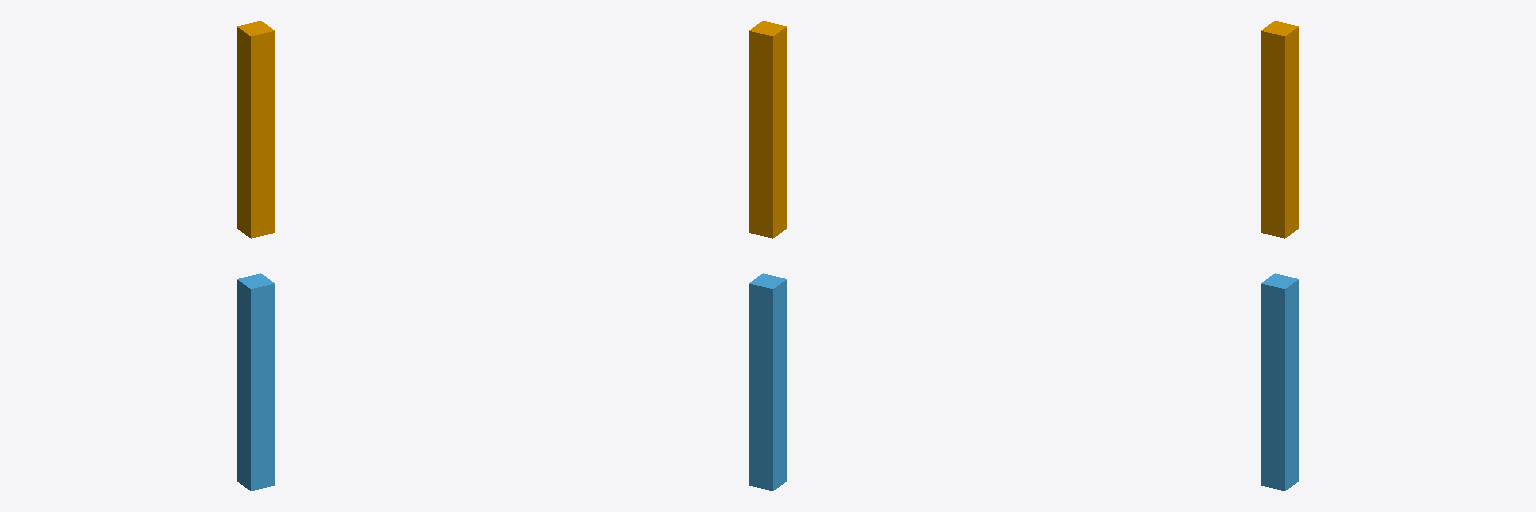
The robot description file, URDF, robot "0000":
<?xml version="0.0"?> 
<robot name="0000"> 
  <link name="None"> 
    <visual> 
      <geometry> 
        <box size="0.1 0.1 0.8"/>
      </geometry> 
      <origin rpy="0.0 0.0 0.0" xyz="0.0 0.0 -0.5"/>
    </visual> 
    <inertial> 
      <mass value="1.0"/> 
      <origin rpy="0.0 0.0 0.0" xyz="0.0 0.0 -1.0"/>
      <inertia ixx="0000.0" iyy="0000.0" izz="0000.0" iyz="0.0" ixz="0.0" ixy="0.0"/>
    </inertial> 
  </link> 

  <link name="1"> 
    <visual> 
      <geometry> 
        <box size="0.1 0.1 0.8"/>
      </geometry> 
      <origin rpy="0.0 0.0 0.0" xyz="0.0 0.0 -0.5"/>
    </visual> 
    <inertial> 
      <mass value="1.0"/> 
      <origin rpy="0.0 0.0 0.0" xyz="0.0 0.0 -1.0"/> 
      <inertia ixx="0000.0" iyy="0000.0" izz="0000.0" iyz="0.0" ixz="0.0" ixy="0.0"/>
    </inertial> 
  </link> 


  <joint name="1_None" type="continuous"> 
    <parent link="None"/> 
    <child link="1"/> 
    <axis xyz="0.0 1.0 0.0"/> 
    <dynamics damping="0.0" friction="0.0"/> 
    <origin rpy="0.0 0.0 0.0" xyz="0.0 0.0 -1.0"/> 
  </joint> 

</robot> 

--- What the picture shows (computed from the rendered views, not written in the file) ---
3 views of the same robot in one strip: view 1: azimuth 30°, elevation 25°; view 2: azimuth 150°, elevation 25°; view 3: azimuth 330°, elevation 25° (orthographic).
Robot: 0000 — 2 links, 1 joints (1 continuous); root link None; default pose: every joint at zero.
Visible links, largest first — view 1: None, 1; view 2: None, 1; view 3: None, 1.
Boxes of the visible links, box(x1,y1,x2,y2) form: None: box(237, 21, 274, 238); 1: box(237, 273, 274, 490); None: box(749, 21, 786, 238); 1: box(749, 273, 786, 490); None: box(1261, 21, 1298, 238); 1: box(1261, 273, 1298, 490).
Bounding box of the posed robot: 0.1 × 0.1 × 1.8 m (x, y, z).
Geometry: primitives only (box / cylinder / sphere), no mesh files.